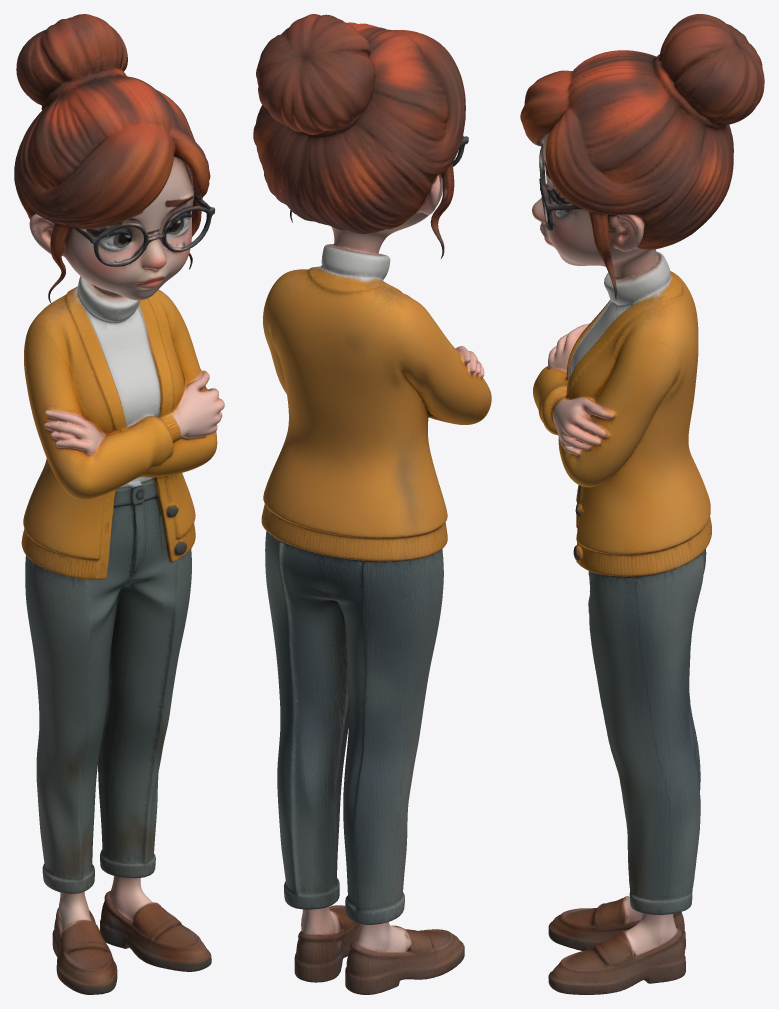
The model's file is lonely_part.glb.
3 renders of one model, left to right at view 1: azimuth 30°, elevation 25°; view 2: azimuth 150°, elevation 25°; view 3: azimuth 270°, elevation 25°, orthographic. The views are drawn at different scales.
Bounding box in the file's own units: 0.4054 × 2 × 0.4704.
1 material, 1 textured.
